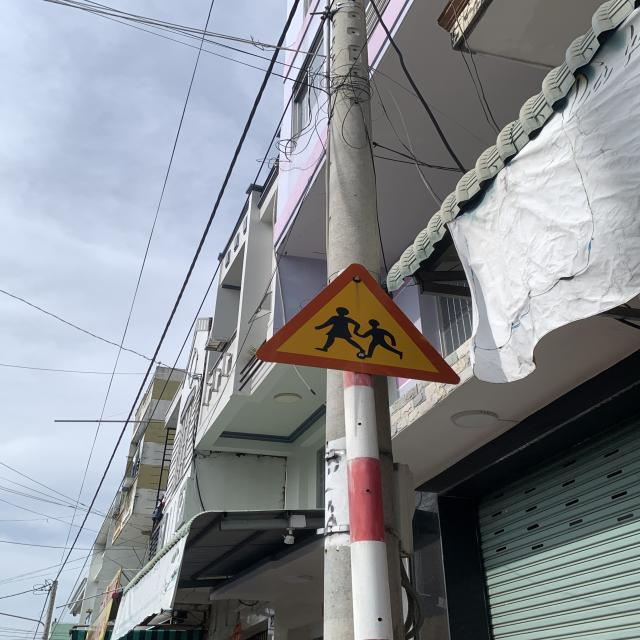Vong_Xuyen: (254, 263, 461, 386)
